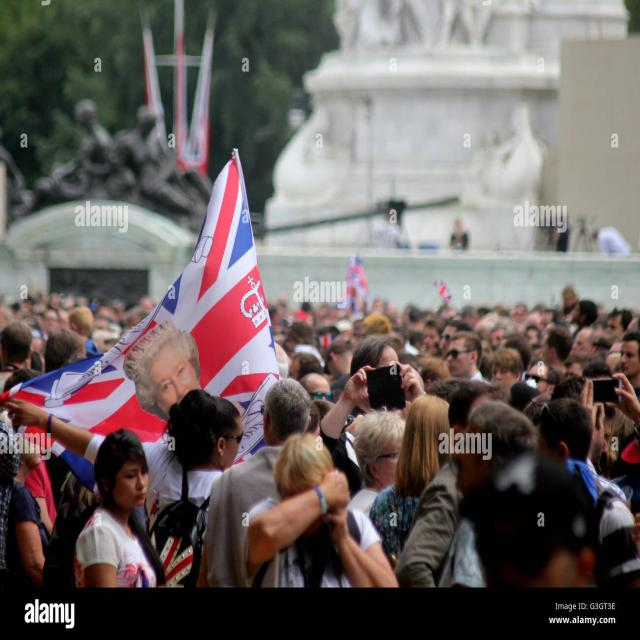Walking: (7, 381, 261, 588)
human: (215, 380, 337, 586), (404, 386, 506, 586), (454, 452, 604, 588), (537, 392, 638, 580), (150, 390, 228, 582), (83, 426, 165, 584), (116, 104, 211, 222), (75, 424, 166, 526), (345, 334, 423, 440), (458, 399, 538, 495), (394, 394, 451, 495), (350, 408, 403, 487), (166, 392, 214, 470), (536, 398, 593, 463), (274, 433, 330, 496), (596, 403, 634, 478), (0, 321, 38, 384), (492, 348, 534, 402), (446, 332, 486, 381), (43, 327, 85, 373), (350, 335, 396, 377), (58, 470, 99, 516), (614, 334, 640, 400), (536, 325, 570, 375), (68, 306, 102, 354), (324, 337, 354, 388), (566, 297, 594, 340), (298, 372, 331, 402), (521, 398, 551, 426), (606, 308, 633, 337), (312, 398, 336, 430), (449, 218, 470, 250), (304, 399, 322, 435), (560, 286, 580, 318)
loitering: (4, 401, 55, 589)
